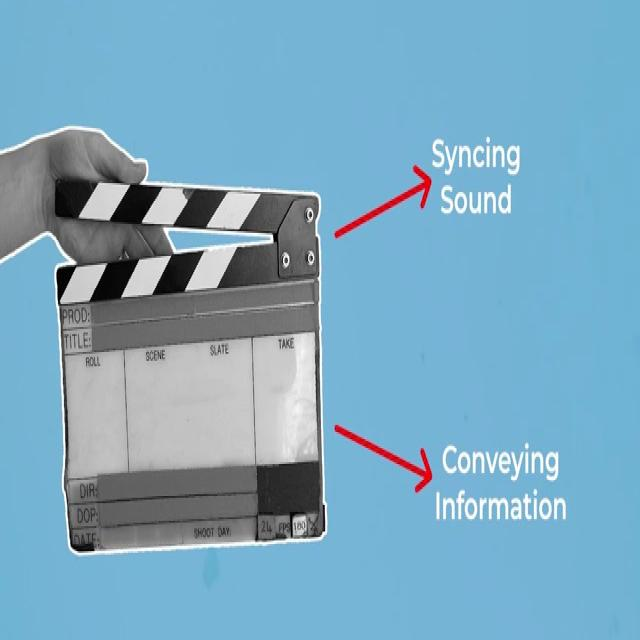Clapperboard: (50, 172, 332, 558)
